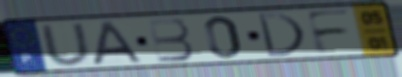0: (202, 15, 243, 60)
A: (91, 20, 144, 67)
B: (145, 16, 197, 64)
D: (254, 11, 308, 59)
F: (303, 8, 354, 56)
U: (37, 21, 95, 68)
